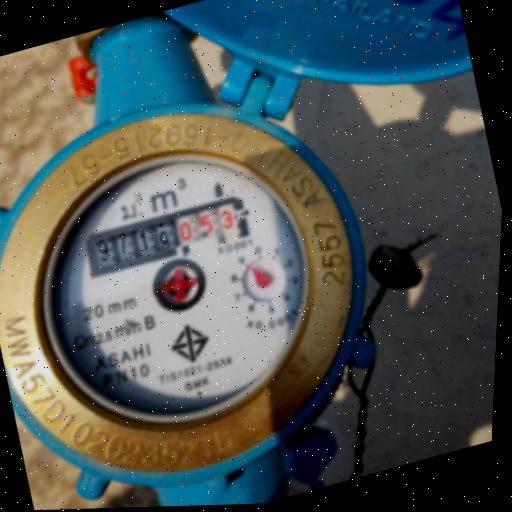0: (174, 214, 198, 246)
1: (134, 226, 156, 259)
3: (215, 201, 242, 244)
5: (195, 208, 218, 241)
7: (113, 231, 135, 263)
9: (93, 237, 116, 270), (153, 221, 175, 254)
border_water_meter_number: (81, 192, 252, 280)
